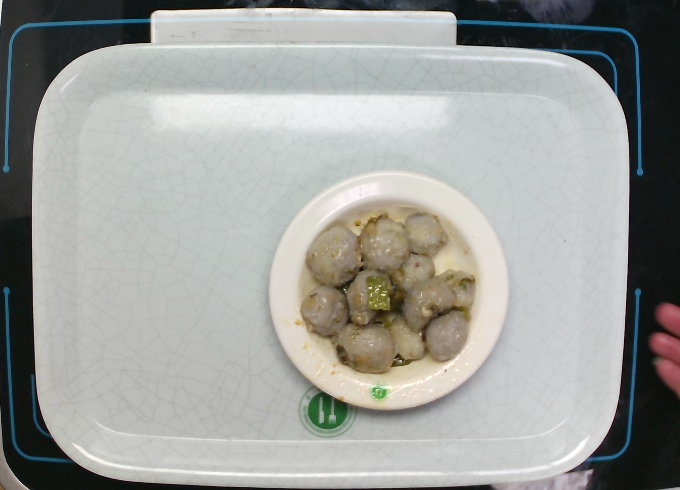WCQzf-Kuan_Bian_Yuan_Die: (263, 174, 508, 416)
